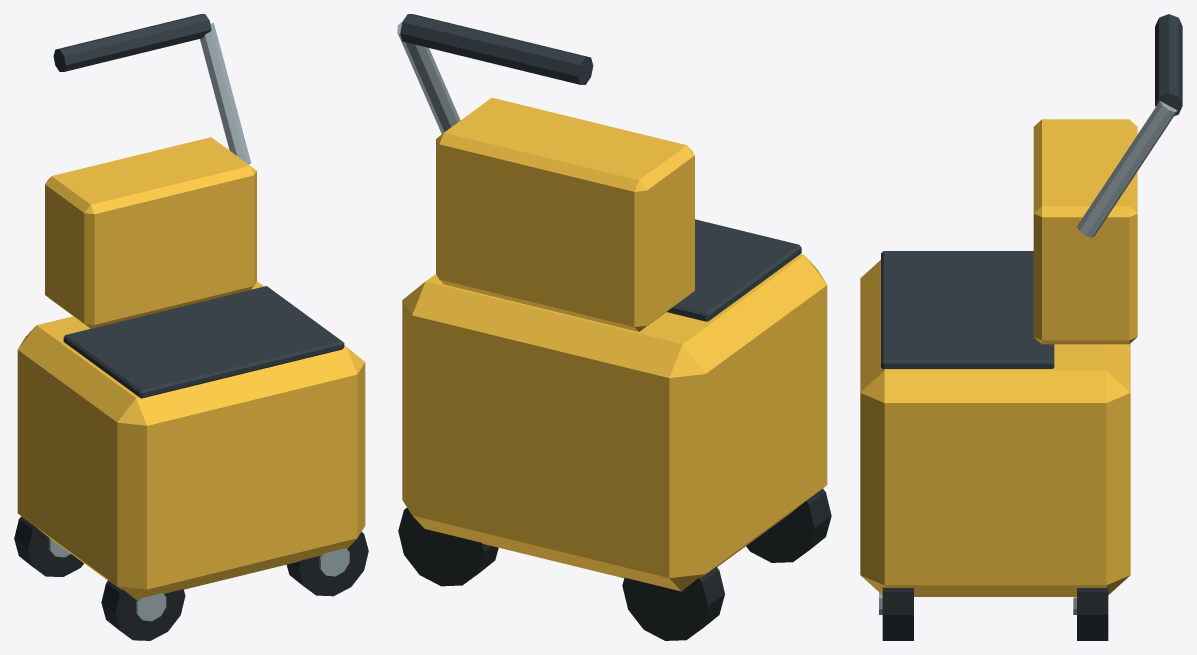
The model's file is Mop_Bucket.glb.
The picture shows the model from 3 angles, left to right: view 1: azimuth 30°, elevation 25°; view 2: azimuth 150°, elevation 25°; view 3: azimuth 270°, elevation 25°; orthographic projection. The views are drawn at different scales.
Visible parts, largest first — view 1: Mop_Bucket; view 2: Mop_Bucket; view 3: Mop_Bucket.
Boxes of the visible parts, x1,y1,x2,y2 form: Mop_Bucket: (14,14,368,640); Mop_Bucket: (397,14,831,640); Mop_Bucket: (860,14,1182,640).
Bounding box in the file's own units: 0.47 × 0.865 × 0.465.
